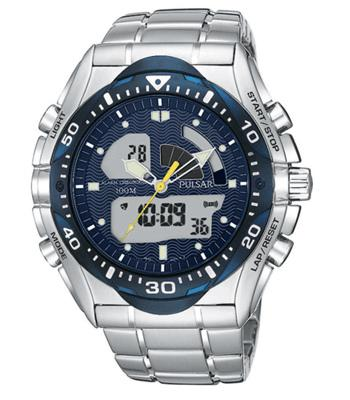watch: (38, 47, 297, 321)
